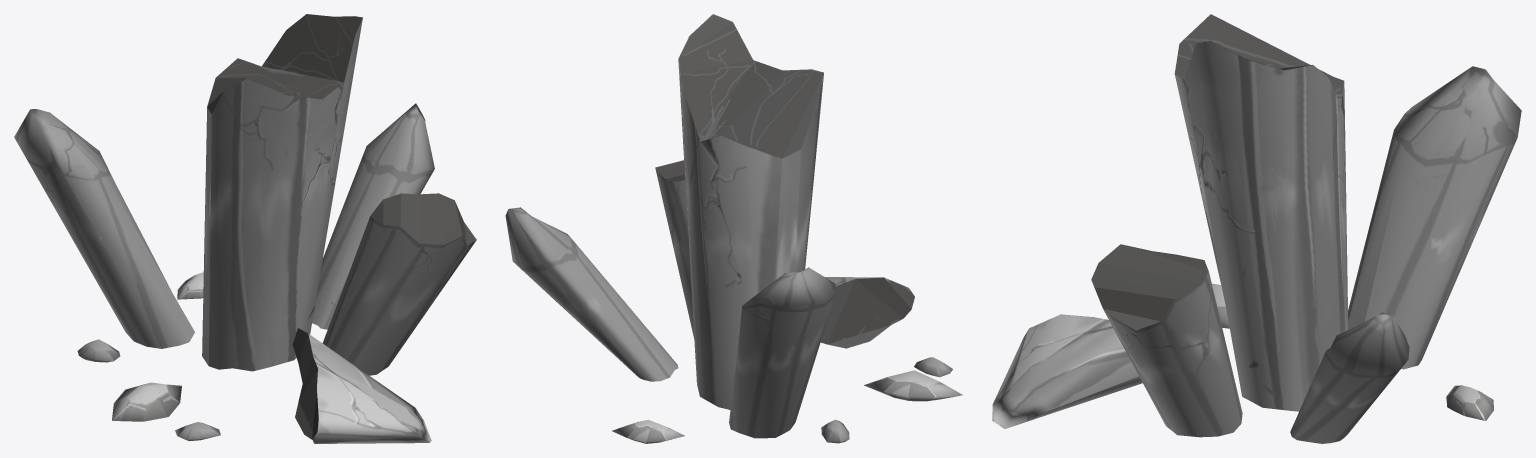
The model's file is Crystal_Broken.fbx.
3 views of the same model, side by side, from view 1: azimuth 30°, elevation 25°; view 2: azimuth 150°, elevation 25°; view 3: azimuth 270°, elevation 25° (orthographic). The views are drawn at different scales.
Parts seen in each view (by area): view 1: pCube18; view 2: pCube18; view 3: pCube18.
Part boxes in pixels (x1,y1,x2,y2): pCube18: (14, 14, 476, 443); pCube18: (505, 14, 962, 443); pCube18: (992, 14, 1521, 443).
Size of the model in its own units: 2.44 by 2.09 by 2.5.
Materials: 1 (1 with a texture image).
